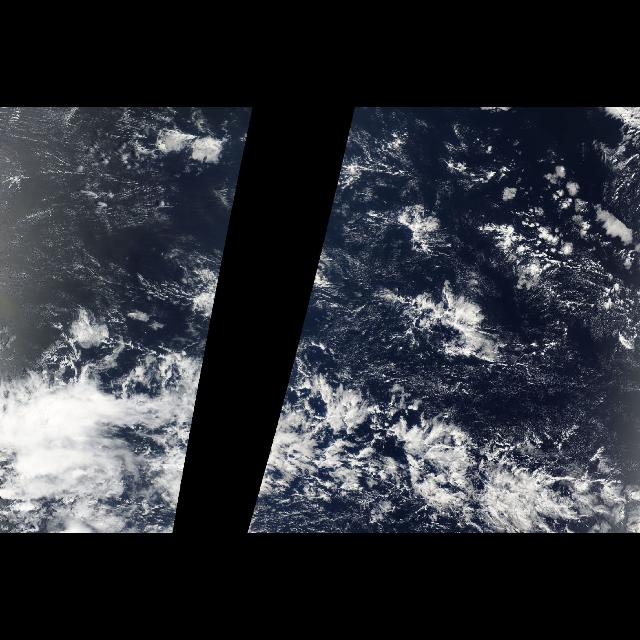Fish: (246, 334, 640, 534), (65, 334, 209, 534)
Sugar: (0, 107, 182, 327), (489, 254, 635, 456)
